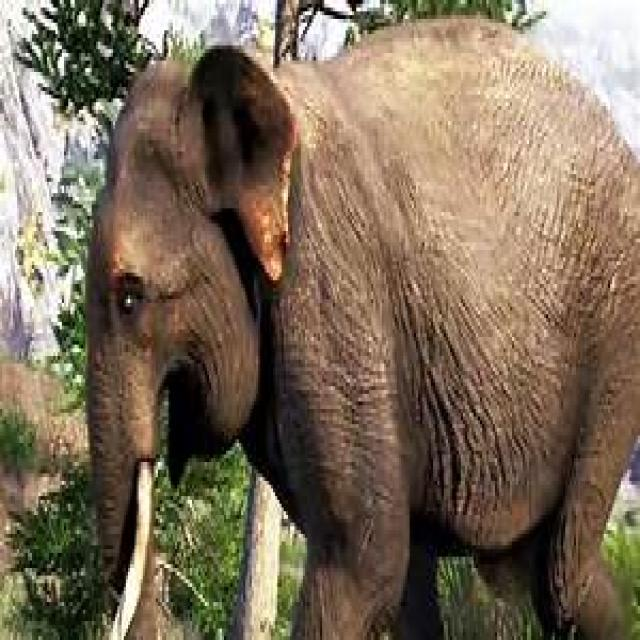elephant: (85, 15, 640, 640)
